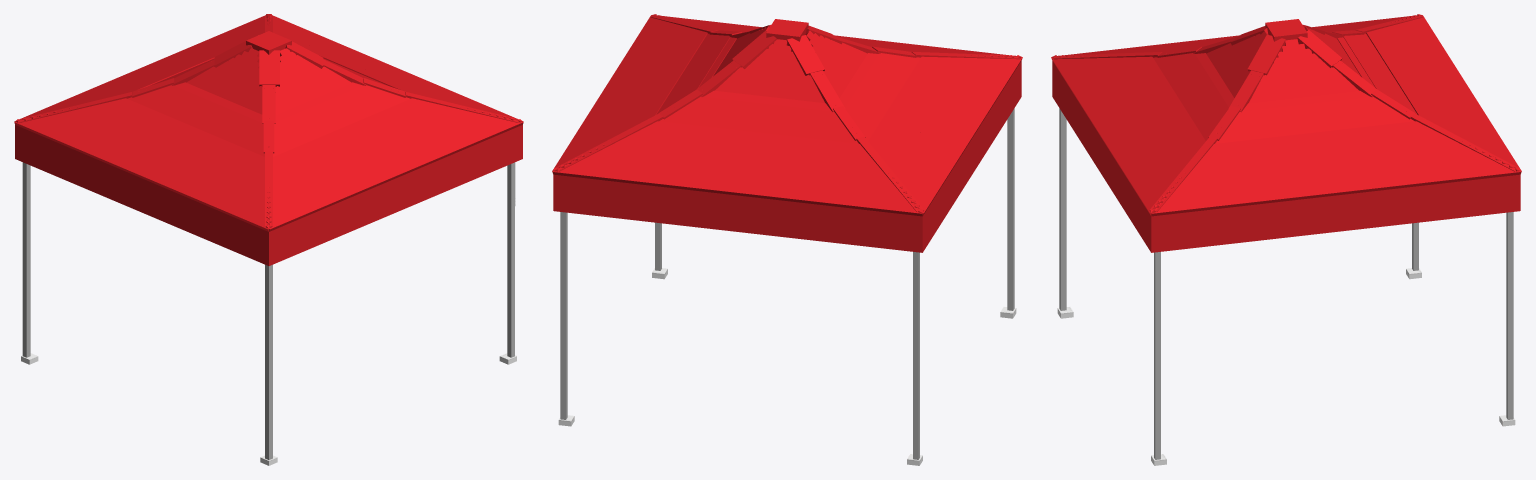
The model's file is tent_red_y15.obj.
The picture shows the model from 3 angles, left to right: view 1: azimuth 30°, elevation 25°; view 2: azimuth 150°, elevation 25°; view 3: azimuth 270°, elevation 25°; orthographic projection. The views are drawn at different scales.
Visible parts, largest first — view 1: text2, text3, cube1.005, cube1.004, stem1, stem4, stem3, cube2.004, cube2.005, cube3.004, cube3.005, cube4.004 (+43 smaller); view 2: text1, text2, cube1.003, cube2.003, stem2, cube3.003, cube4.003, stem3, cube5, cube6, stem1, cube7 (+61 smaller); view 3: text0, text3, cube1.006, cube2.006, stem2, cube3.006, cube4.006, stem3, cube5.002, cube6.002, stem4, cube7.002 (+61 smaller).
Boxes of the visible parts, x1,y1,x2,y2 form: text2: [15, 125, 272, 265]; text3: [273, 126, 518, 264]; cube1.005: [14, 119, 272, 233]; cube1.004: [266, 119, 523, 233]; stem1: [22, 162, 30, 357]; stem4: [507, 162, 515, 357]; stem3: [265, 264, 272, 459]; cube2.004: [266, 117, 515, 224]; cube2.005: [22, 117, 271, 224]; cube3.004: [266, 116, 508, 219]; cube3.005: [29, 116, 271, 219]; cube4.004: [267, 114, 500, 214]; text1: [559, 175, 916, 252]; text2: [917, 62, 1021, 252]; cube1.003: [553, 168, 923, 216]; cube2.003: [560, 164, 919, 208]; stem2: [560, 212, 567, 419]; cube3.003: [567, 161, 915, 204]; cube4.003: [574, 158, 911, 199]; stem3: [1007, 108, 1014, 310]; cube5: [581, 154, 906, 194]; cube6: [588, 151, 902, 189]; stem1: [913, 252, 919, 459]; cube7: [596, 147, 898, 185]; text0: [1149, 175, 1520, 252]; text3: [1053, 63, 1149, 249]; cube1.006: [1150, 168, 1520, 216]; cube2.006: [1154, 164, 1513, 208]; stem2: [1506, 212, 1513, 419]; cube3.006: [1158, 161, 1506, 204]; cube4.006: [1162, 158, 1499, 199]; stem3: [1059, 108, 1066, 310]; cube5.002: [1167, 154, 1492, 194]; cube6.002: [1171, 151, 1485, 189]; stem4: [1154, 252, 1160, 459]; cube7.002: [1175, 147, 1477, 185].
Bounding box in the file's own units: 4.57 × 3.66 × 4.57.
